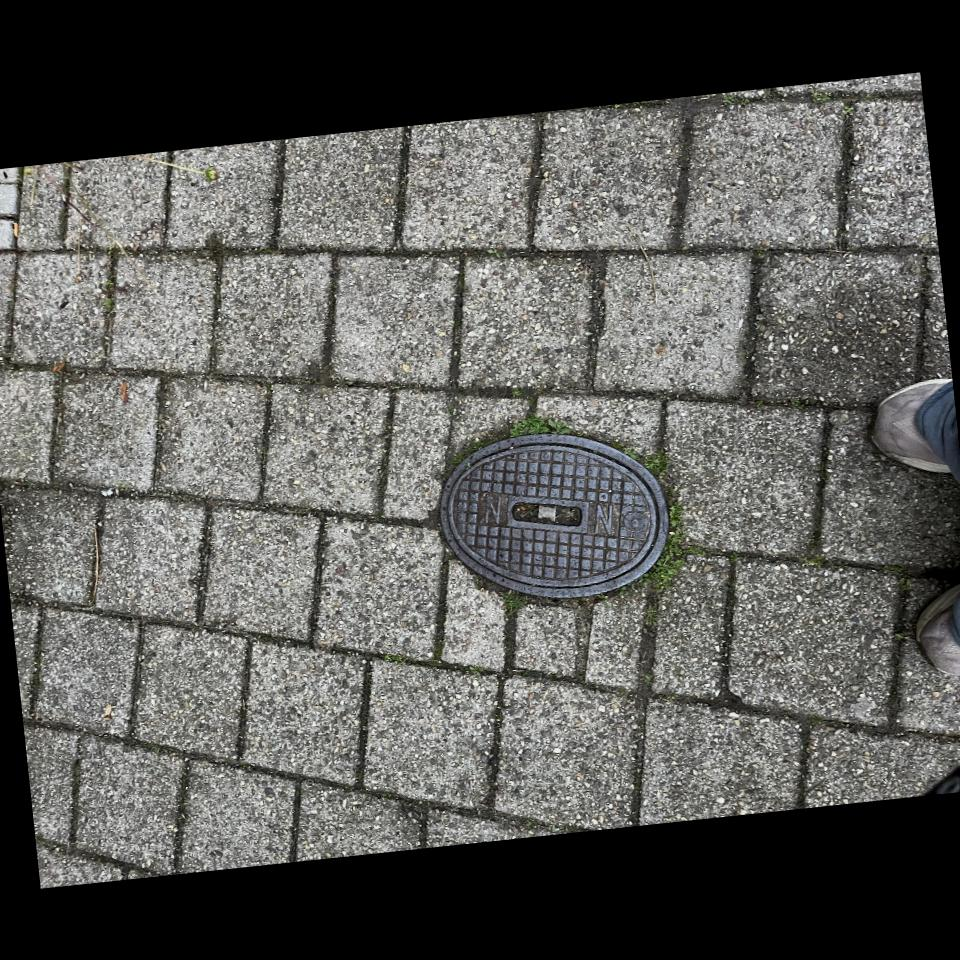weed: (635, 505, 686, 592), (622, 448, 674, 491), (443, 438, 493, 477), (502, 589, 574, 615), (510, 416, 572, 436), (646, 613, 655, 624)
